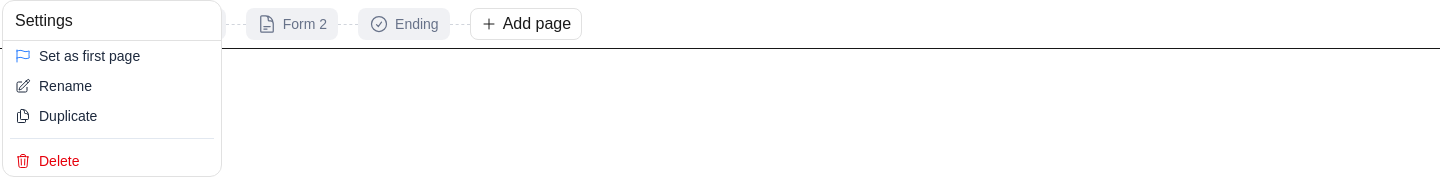
Scenario: PageStepsBar › should duplicate page step
Click the menu item "Duplicate" at (56, 116), box [15,108,97,124]
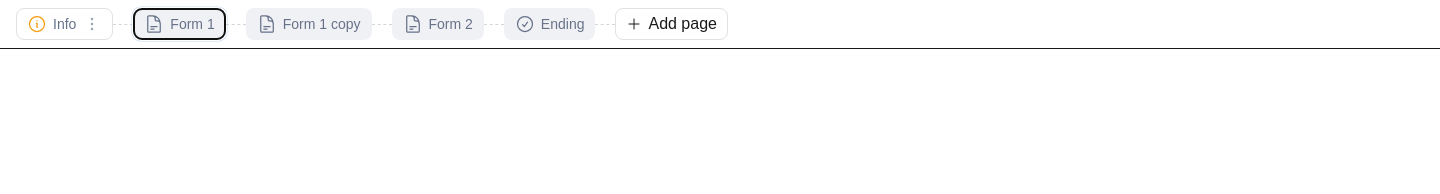
Now the text "Form 1 copy" is shown, box [283,14,360,34]
